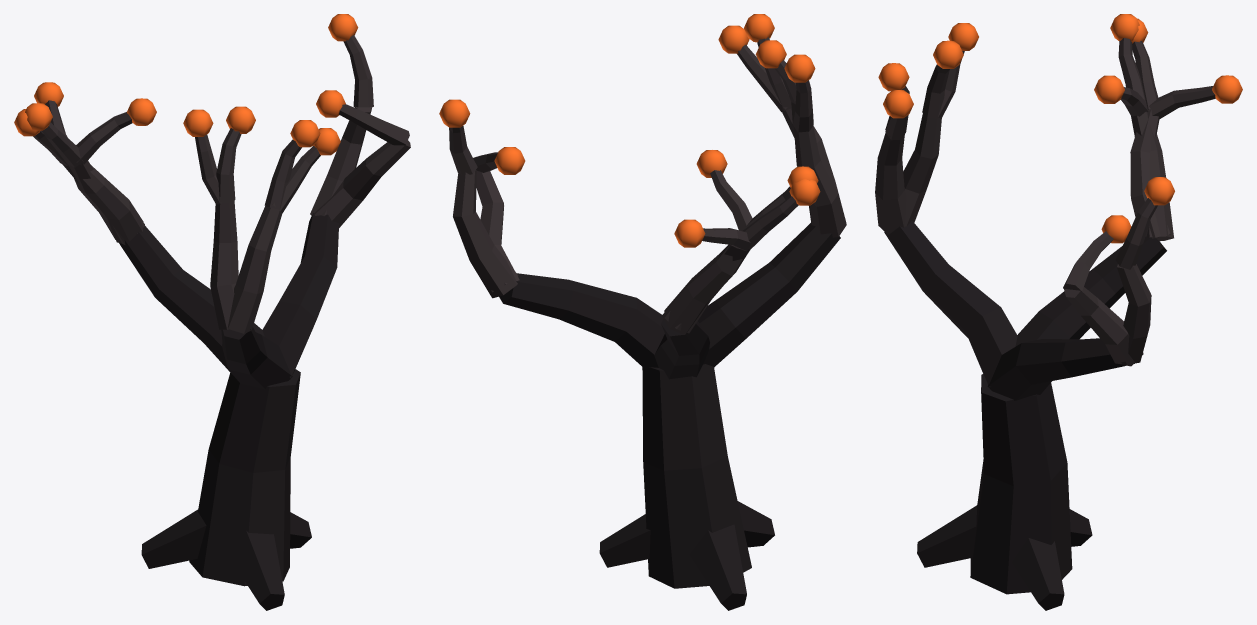
File: CharredTree.fbx
3 views of the same model, side by side, from view 1: azimuth 30°, elevation 25°; view 2: azimuth 150°, elevation 25°; view 3: azimuth 270°, elevation 25° (orthographic). The views are drawn at different scales.
Visible parts, largest first — view 1: Frame; view 2: Frame; view 3: Frame.
Part boxes in pixels (bbox=[...]): Frame: bbox=[14, 14, 410, 610]; Frame: bbox=[439, 14, 846, 610]; Frame: bbox=[875, 14, 1242, 610].
Size of the model in its own units: 8.89 by 11.71 by 7.56.
1 material, 1 textured.
